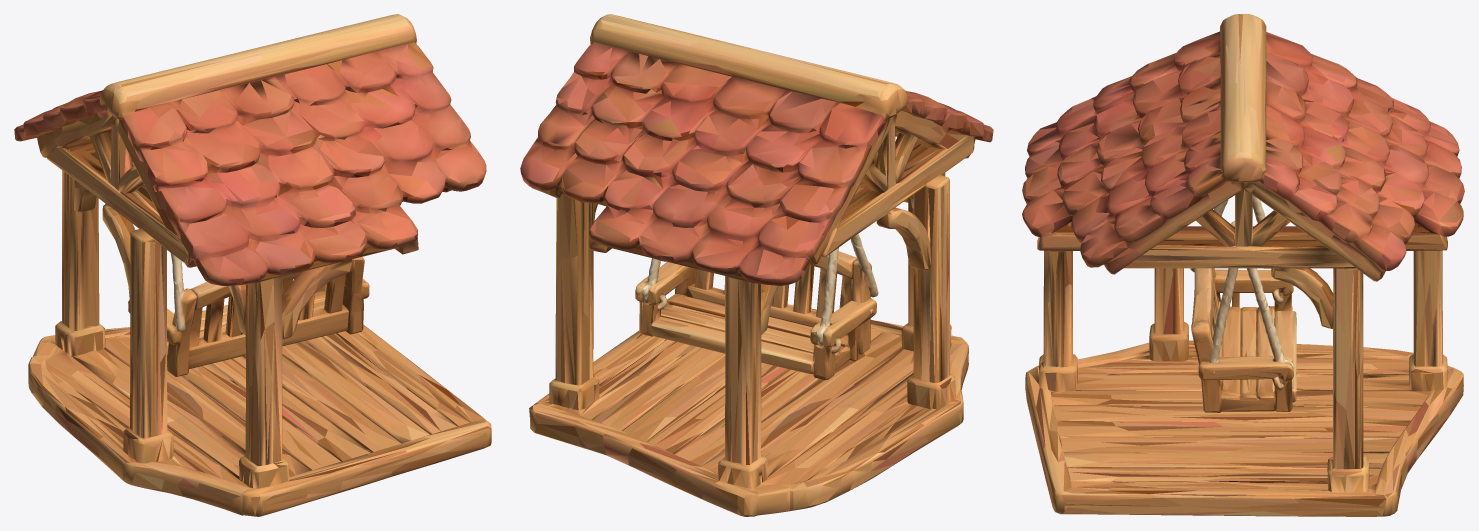
The picture shows the model from 3 angles, left to right: view 1: azimuth 30°, elevation 25°; view 2: azimuth 150°, elevation 25°; view 3: azimuth 270°, elevation 25°; orthographic projection.
Parts seen in each view (by area): view 1: F14_Pergola, F14_SwingPivot; view 2: F14_Pergola, F14_SwingPivot; view 3: F14_Pergola, F14_SwingPivot.
Part boxes in pixels (x1,y1,x2,y2): F14_Pergola: [14, 14, 491, 516]; F14_SwingPivot: [128, 253, 369, 376]; F14_Pergola: [520, 14, 993, 516]; F14_SwingPivot: [635, 233, 878, 380]; F14_Pergola: [1022, 14, 1464, 516]; F14_SwingPivot: [1190, 195, 1296, 412].
Size of the model in its own units: 3.05 by 3.2 by 3.53.
Materials: 2 (2 with a texture image).
